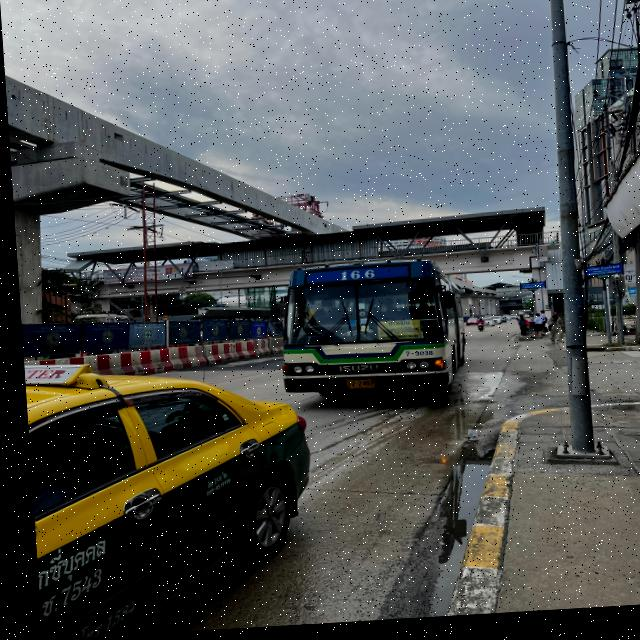BMTA-bus: (269, 256, 465, 411)
Bus-Line-Number: (334, 272, 373, 286)
Destination-Sign-Normal-Expressway: (373, 324, 417, 345)
